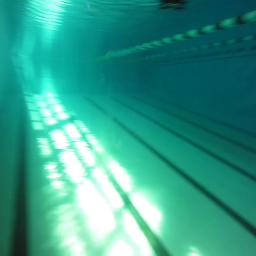Side: (160, 0, 188, 12)
